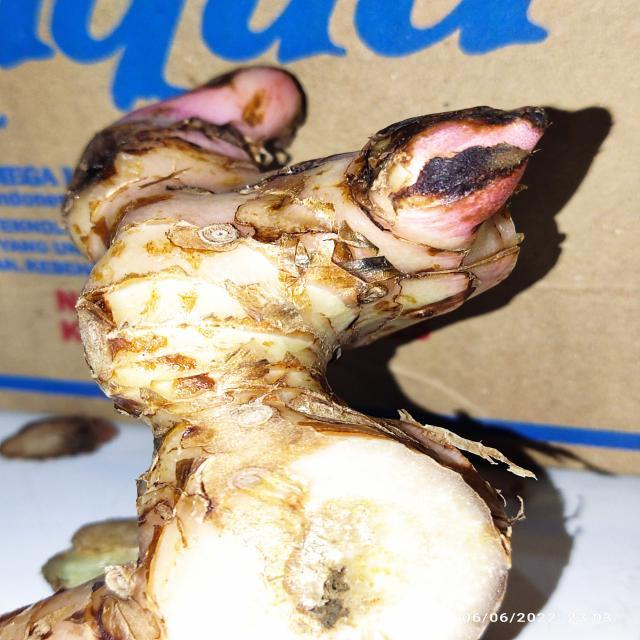ginger: (45, 67, 542, 640)
